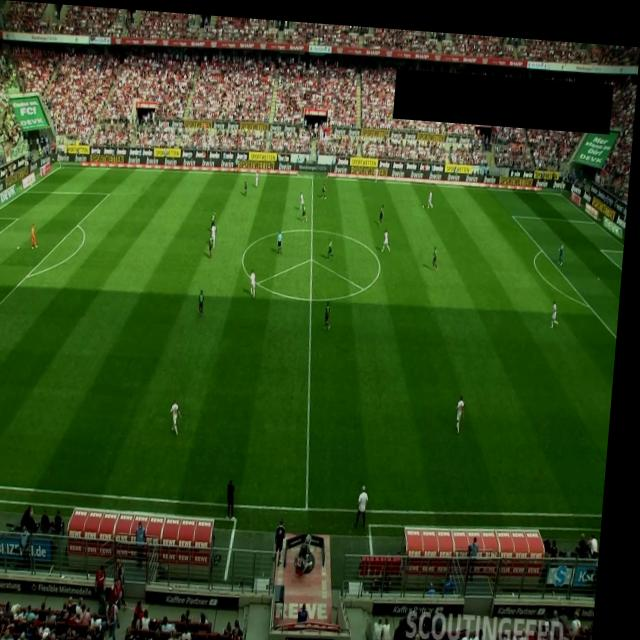goalkeeper: (34, 222, 43, 249), (561, 233, 568, 256)
player: (176, 395, 190, 433), (461, 386, 473, 427), (555, 291, 564, 320), (253, 265, 261, 294), (386, 222, 395, 247), (203, 286, 211, 314), (213, 217, 221, 244), (210, 231, 218, 256), (329, 296, 336, 324), (436, 238, 443, 264), (331, 231, 338, 255), (304, 197, 312, 218), (430, 183, 437, 203), (213, 207, 220, 227), (382, 198, 388, 220), (323, 175, 330, 193), (303, 187, 309, 205), (257, 165, 262, 183), (247, 175, 252, 191), (377, 162, 382, 178)
referee: (280, 225, 288, 251), (237, 151, 242, 170)
